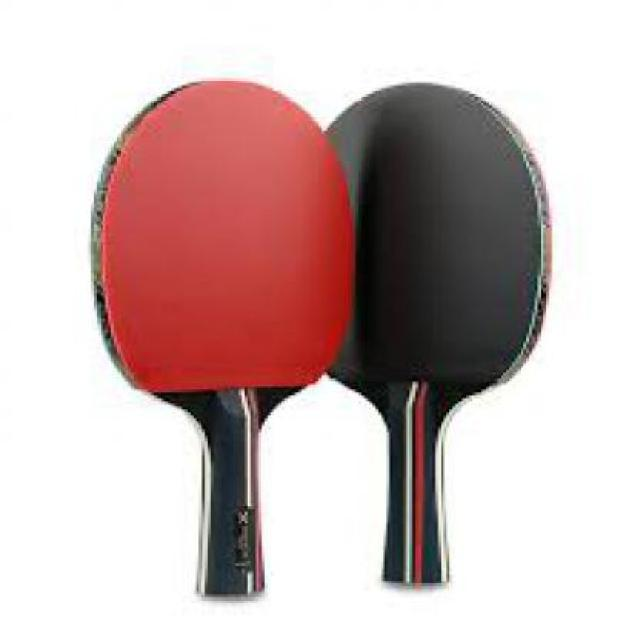table_tennis_racket: (88, 70, 358, 442), (314, 78, 566, 422)
